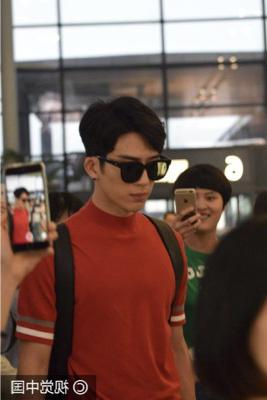without_mask: (98, 150, 159, 212), (187, 190, 222, 235)
